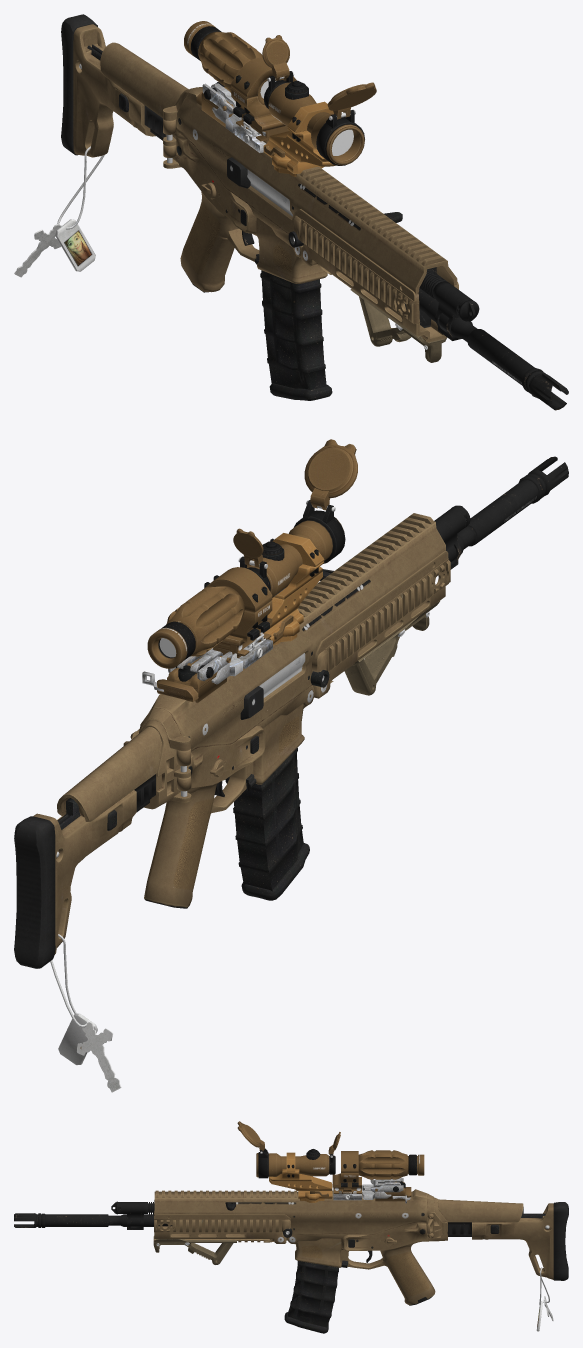
Rendered from Weapon.glb.
3 renders of one model, top to bottom at view 1: azimuth 30°, elevation 25°; view 2: azimuth 150°, elevation 25°; view 3: azimuth 270°, elevation 25°, orthographic. The views are drawn at different scales.
Parts seen in each view (by area): view 1: Object_4, Object_6, Object_5, Object_3, Object_2, Object_7; view 2: Object_4, Object_6, Object_5, Object_3, Object_2, Object_7; view 3: Object_4, Object_6, Object_3, Object_5, Object_2, Object_7.
Part boxes in pixels (bbox=[...]): Object_4: bbox=[14, 24, 566, 410]; Object_6: bbox=[15, 21, 545, 400]; Object_5: bbox=[53, 14, 568, 410]; Object_3: bbox=[184, 21, 375, 176]; Object_2: bbox=[196, 32, 376, 176]; Object_7: bbox=[350, 288, 447, 362]; Object_4: bbox=[33, 456, 557, 1087]; Object_6: bbox=[14, 470, 550, 1092]; Object_5: bbox=[14, 456, 568, 1092]; Object_3: bbox=[142, 439, 356, 702]; Object_2: bbox=[153, 444, 357, 702]; Object_7: bbox=[344, 601, 439, 695]; Object_4: bbox=[14, 1191, 553, 1303]; Object_6: bbox=[34, 1189, 568, 1333]; Object_3: bbox=[237, 1121, 424, 1203]; Object_5: bbox=[14, 1201, 568, 1331]; Object_2: bbox=[239, 1123, 411, 1202]; Object_7: bbox=[153, 1236, 236, 1264].
Bounding box in the file's own units: 11.22 × 37.48 × 87.54.
Materials: 3 (3 with a texture image).
